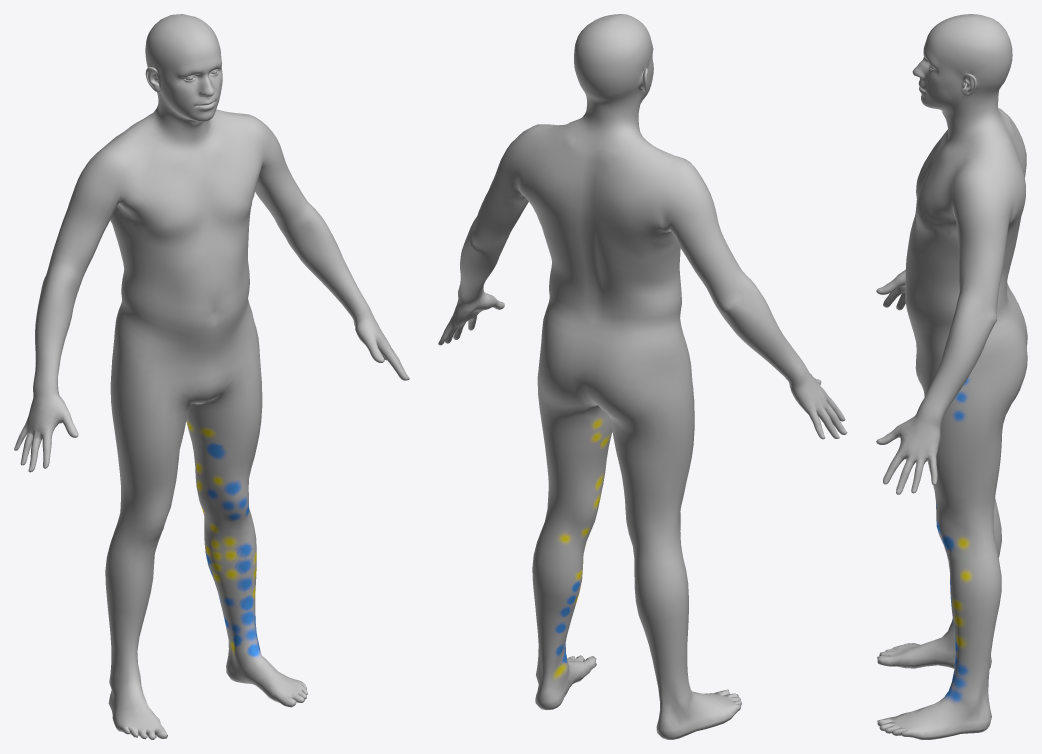
The model's file is 1135018-layingdown-yellow+blue.gltf.
3 views of the same model, side by side, from view 1: azimuth 30°, elevation 25°; view 2: azimuth 150°, elevation 25°; view 3: azimuth 270°, elevation 25° (orthographic). The views are drawn at different scales.
Parts seen in each view (by area): view 1: Male 68in 160lbs-A-pose; view 2: Male 68in 160lbs-A-pose; view 3: Male 68in 160lbs-A-pose.
Part boxes in pixels (x1=…): Male 68in 160lbs-A-pose: x1=14, y1=14, x2=409, y2=739; Male 68in 160lbs-A-pose: x1=438, y1=14, x2=847, y2=739; Male 68in 160lbs-A-pose: x1=876, y1=14, x2=1027, y2=739.
Size of the model in its own units: 4.32 by 7.33 by 1.47.
Materials: 1 (1 with a texture image).
